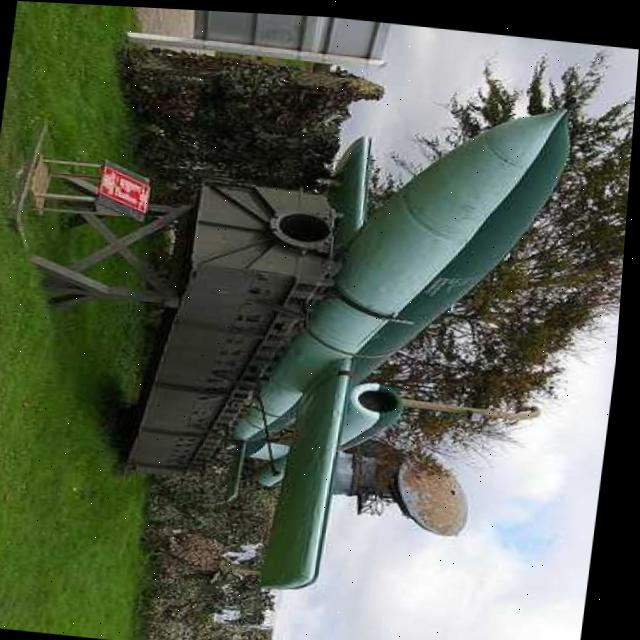missile: (235, 70, 580, 535)
